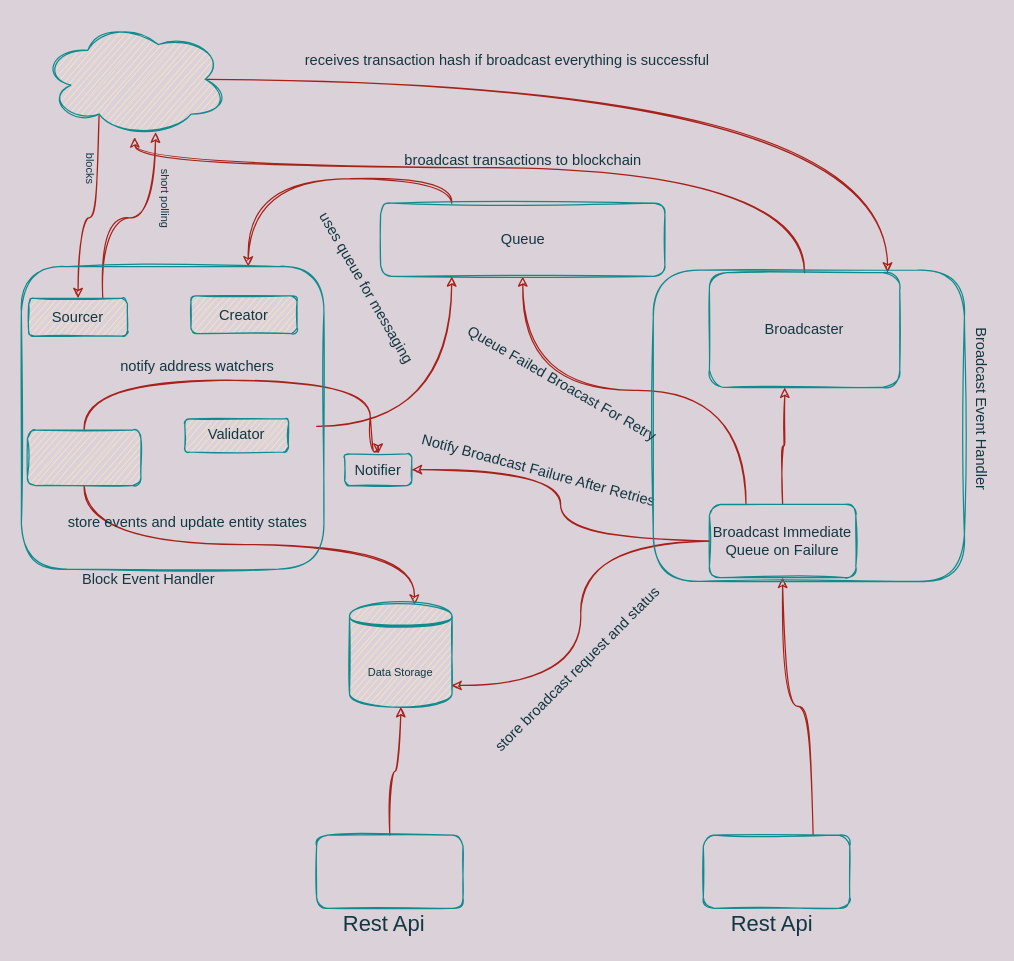
The diagram is 1014 pixels wide and 961 high, and some of its shapes have lost their labels. Here are the shapes that lost their labels. From the top down, the box of each, then its label:
(40, 20, 229, 137): Blockchain
(26, 429, 141, 486): Transformer
(315, 834, 463, 908): Address History/State Blockchain data
(702, 834, 850, 908): Broadcast Transactions
